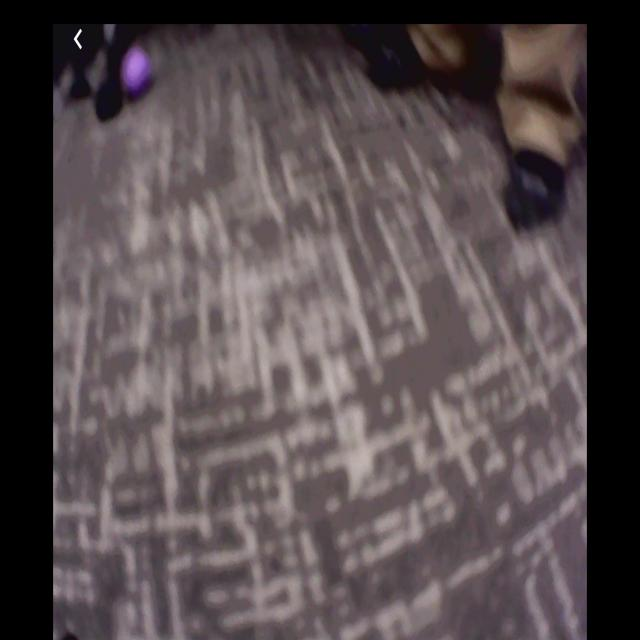ball: (122, 45, 155, 92)
